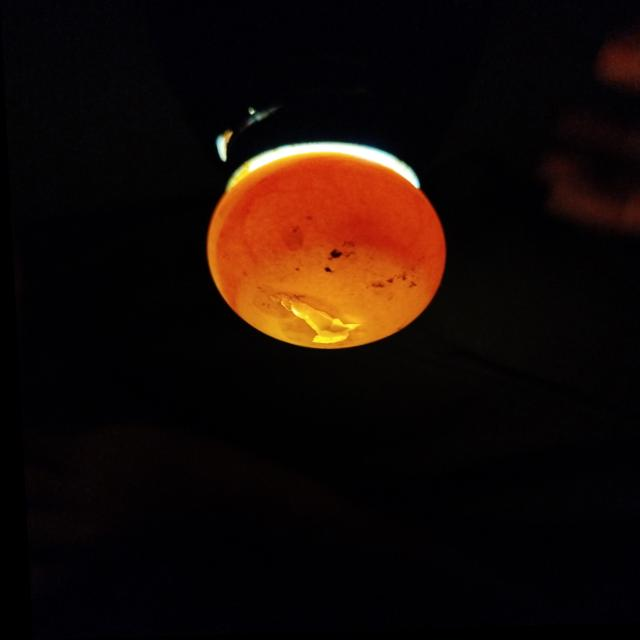Gema Quebrada: (213, 159, 442, 315)
